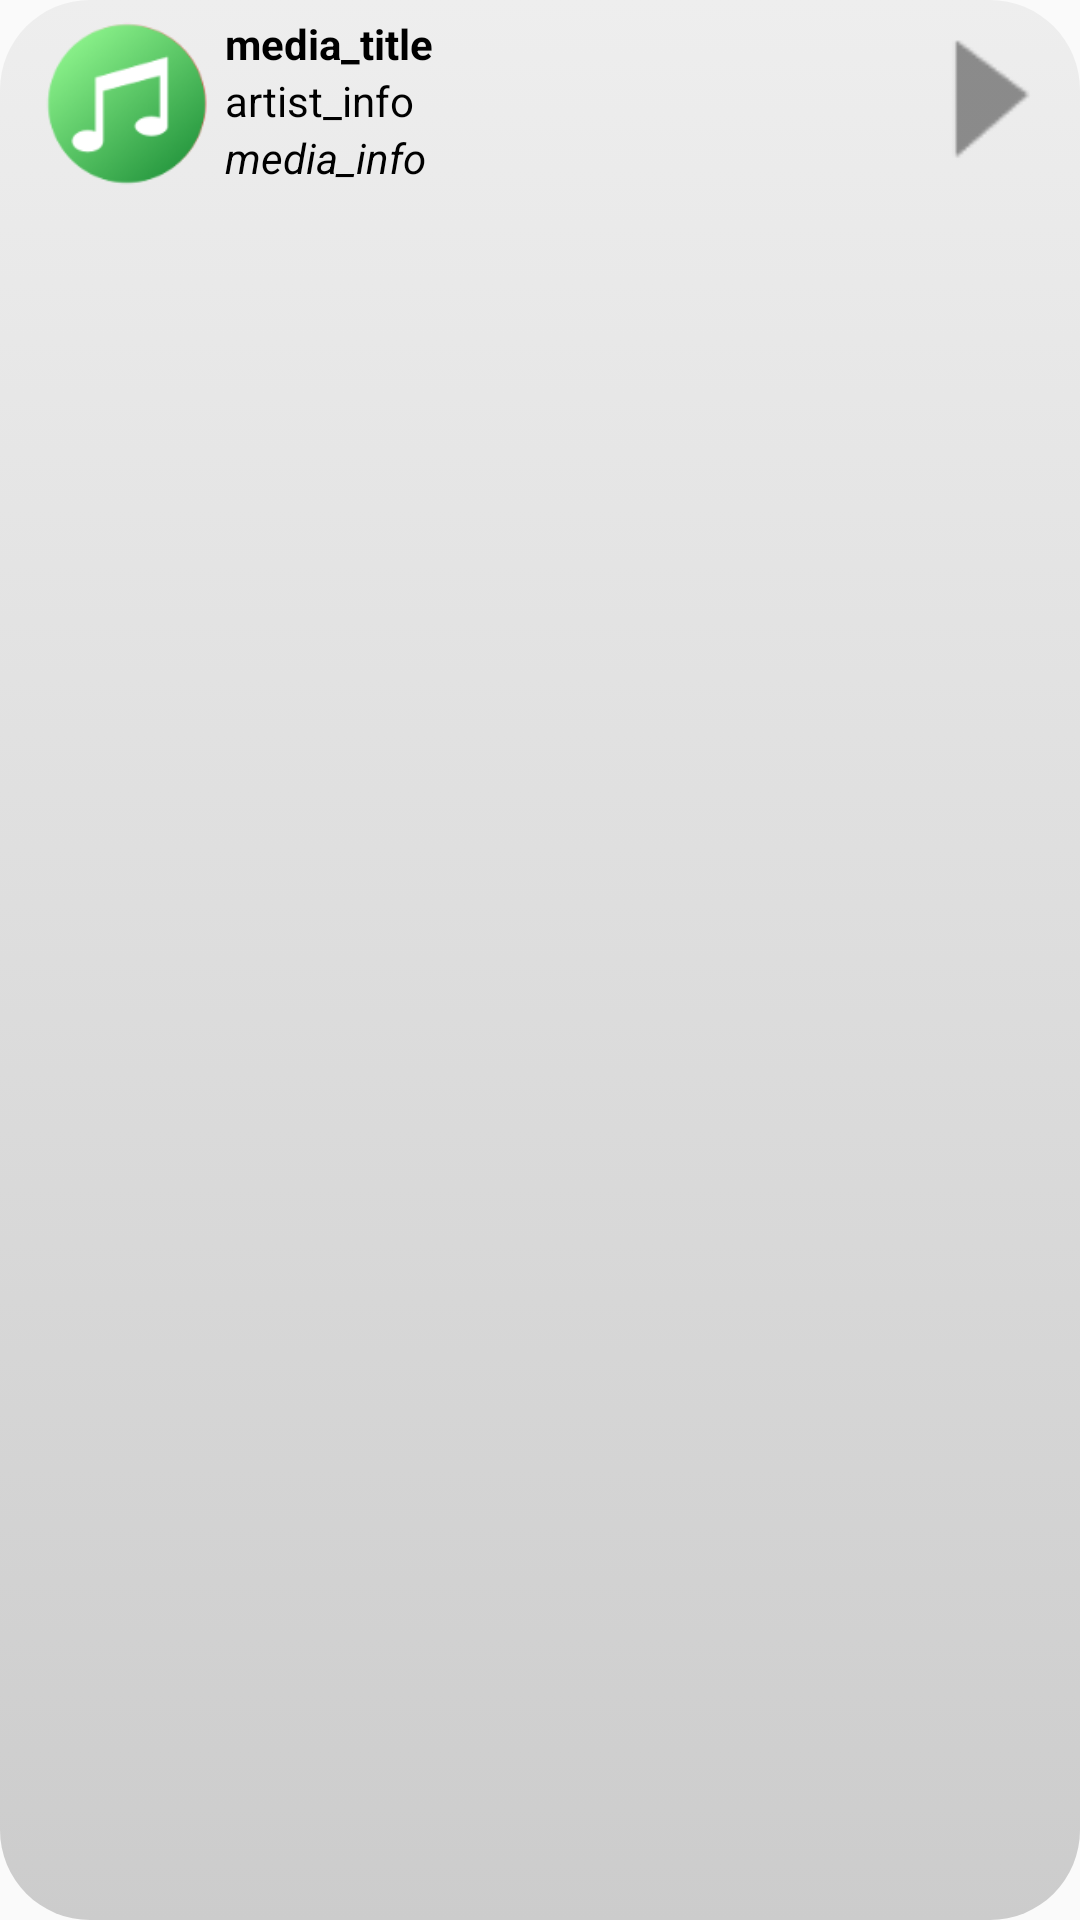

Icons on this 1080px x 1920px Android screen, each with the point to tap as (x=x, y=y):
music: (x=127, y=104)
play tiny: (x=991, y=99)
